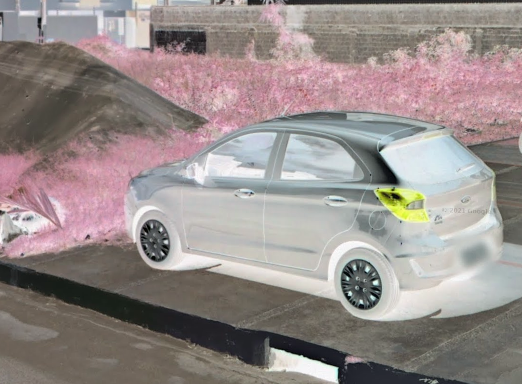car: (121, 107, 508, 319)
